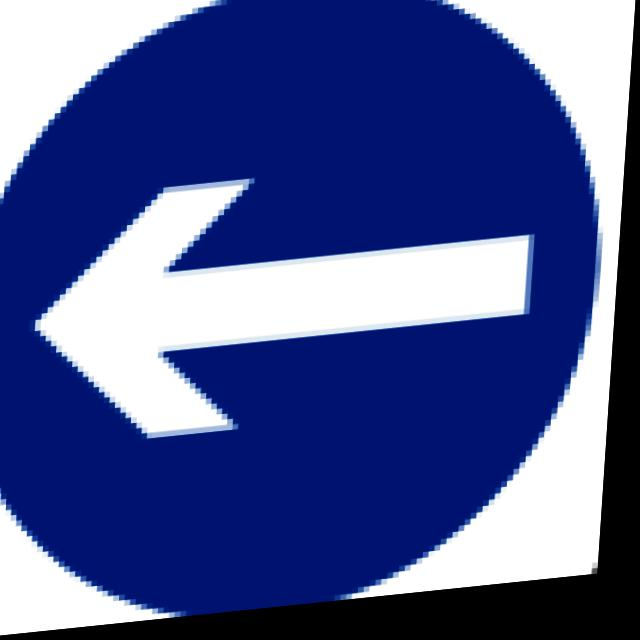COMPULSARY_TURN_LEFT: (0, 0, 623, 640)
